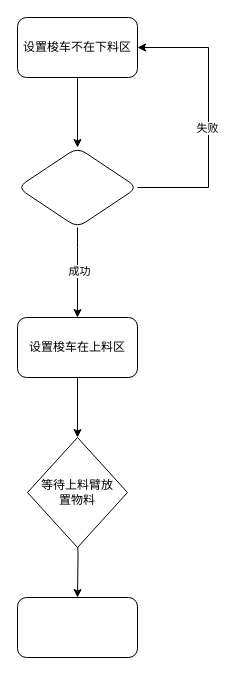
Some shapes in this 235 by 675 pixel diagram are drawn without their labels. The shapes that lost their labels are listed below. From the top down, each one's box as (x1, y1, x2, y2) in pixels, then its label:
(16, 146, 138, 228): 移动到上料区
(16, 596, 138, 658): 设置梭车不在上料区： 设置梭车不在下料区
